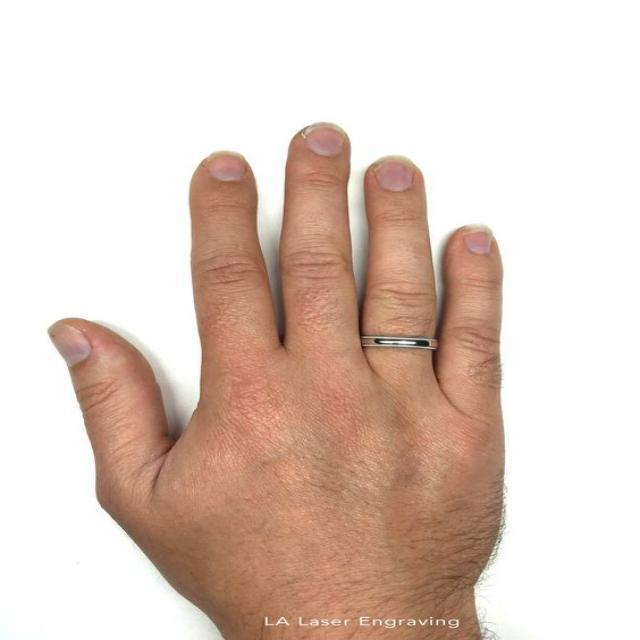Fingernail: (48, 322, 88, 369), (302, 122, 348, 159), (374, 158, 414, 192), (206, 154, 247, 182), (465, 227, 495, 256)
